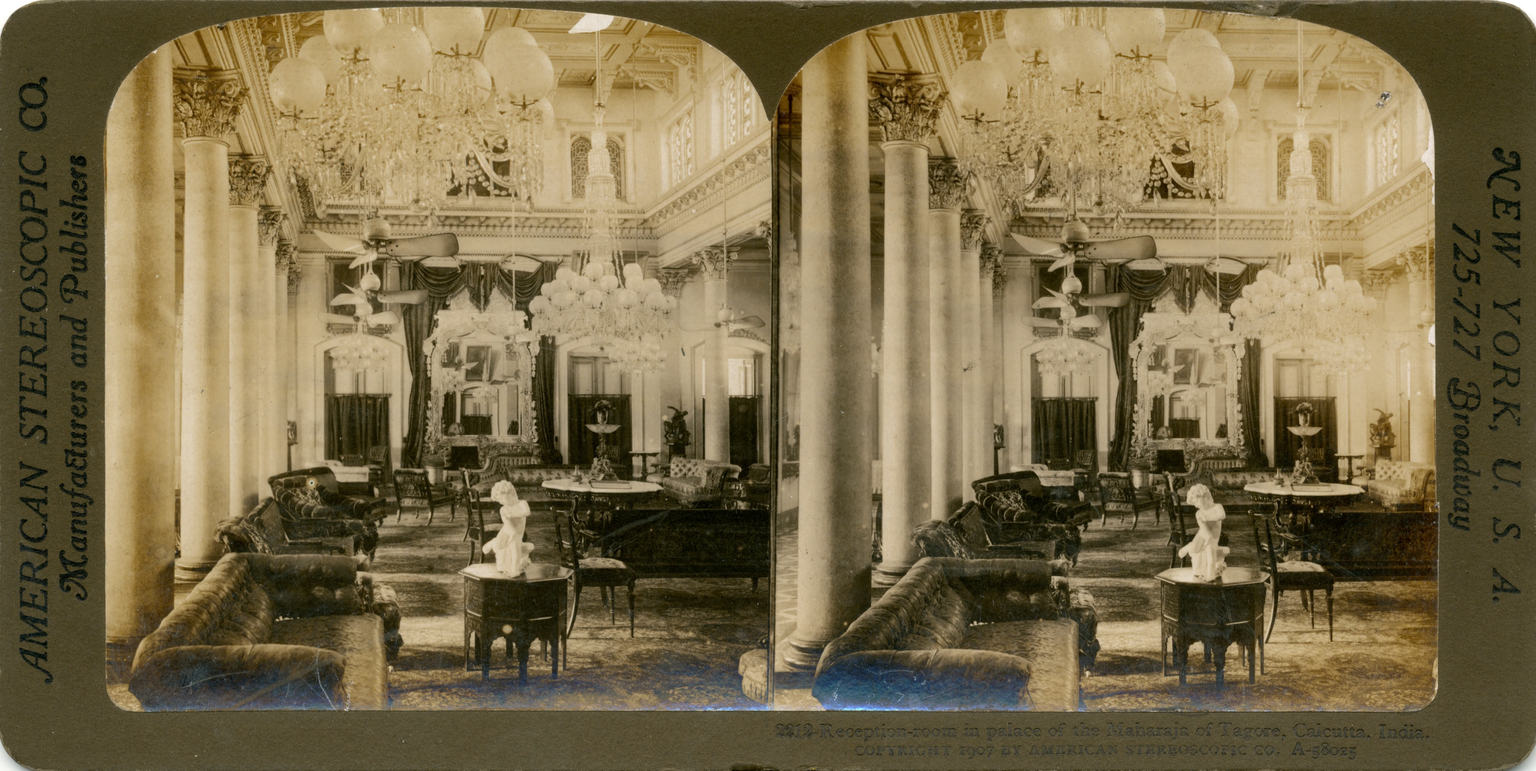half_image: (775, 6, 1438, 713), (106, 6, 769, 711)
